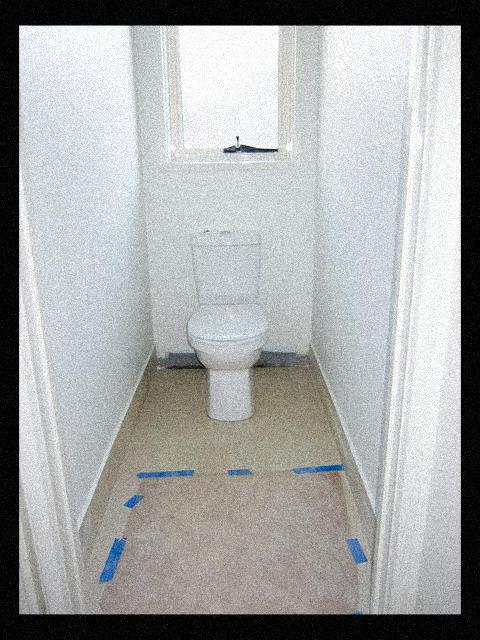Sanitario: (182, 223, 280, 425)
